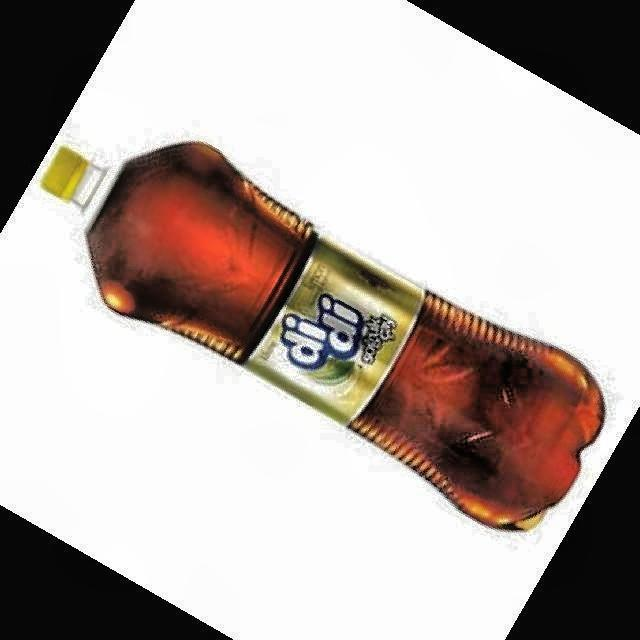plastic: (41, 141, 605, 529)
